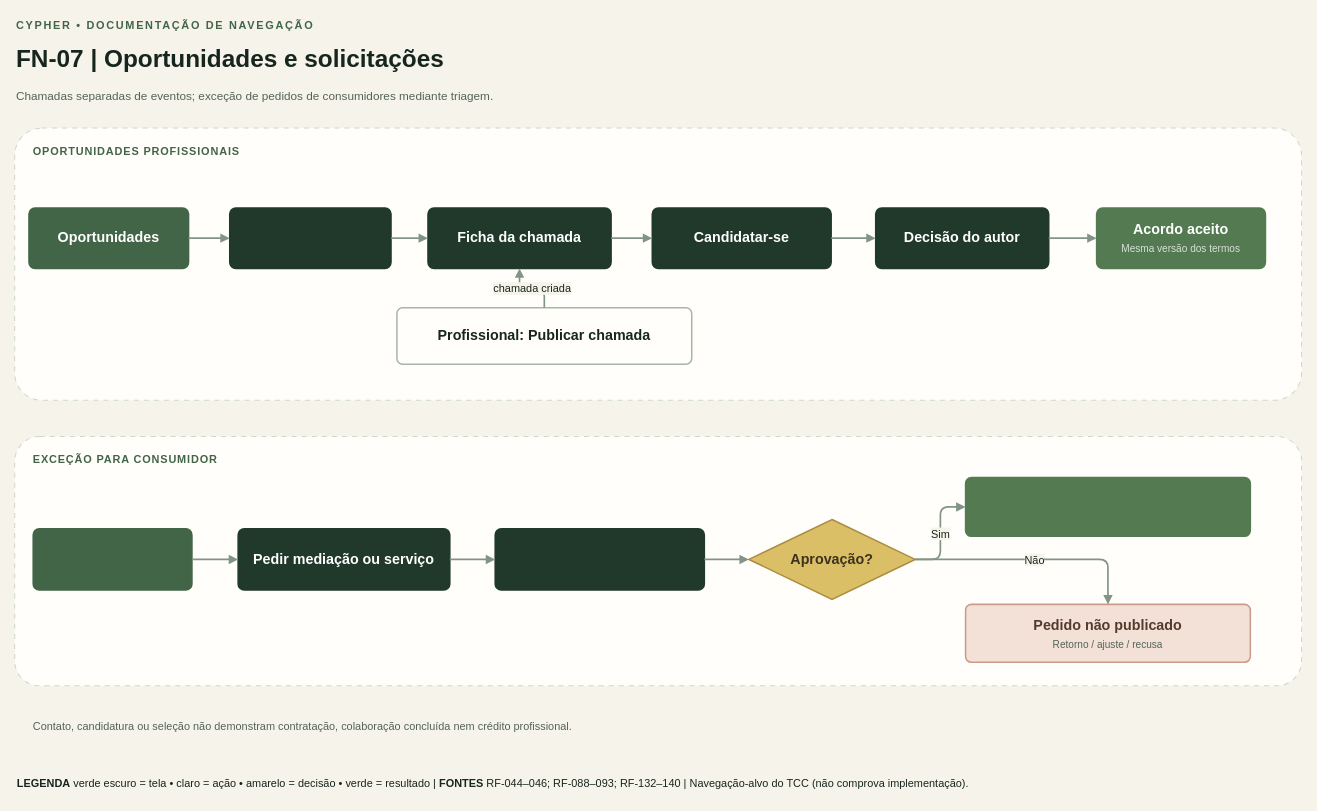
The diagram is 1317 pixels wide and 811 high, and some of its shapes have lost their labels. The shapes that lost their labels are listed below. From the top down, each one's box as (x1, y1, x2, y2) in pixels, then its label:
(229, 207, 391, 269): Busca / Filtros
(964, 476, 1251, 537): Pedido publicado
(32, 528, 192, 590): Consumidor
(494, 528, 705, 590): Triagem administrativa
